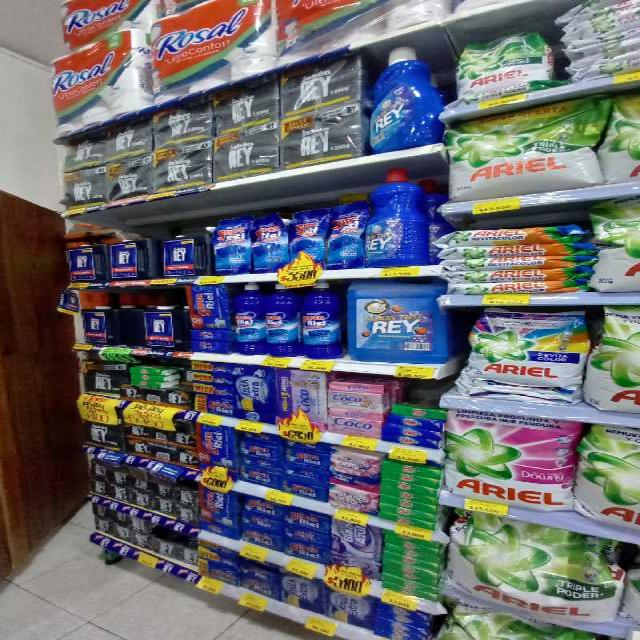Jabon_rey: (344, 281, 450, 365), (161, 232, 209, 281), (139, 303, 188, 351), (78, 302, 119, 349), (108, 239, 150, 282), (71, 247, 107, 284)
Super_Riel: (300, 283, 342, 362), (266, 286, 303, 358), (235, 284, 267, 353)
